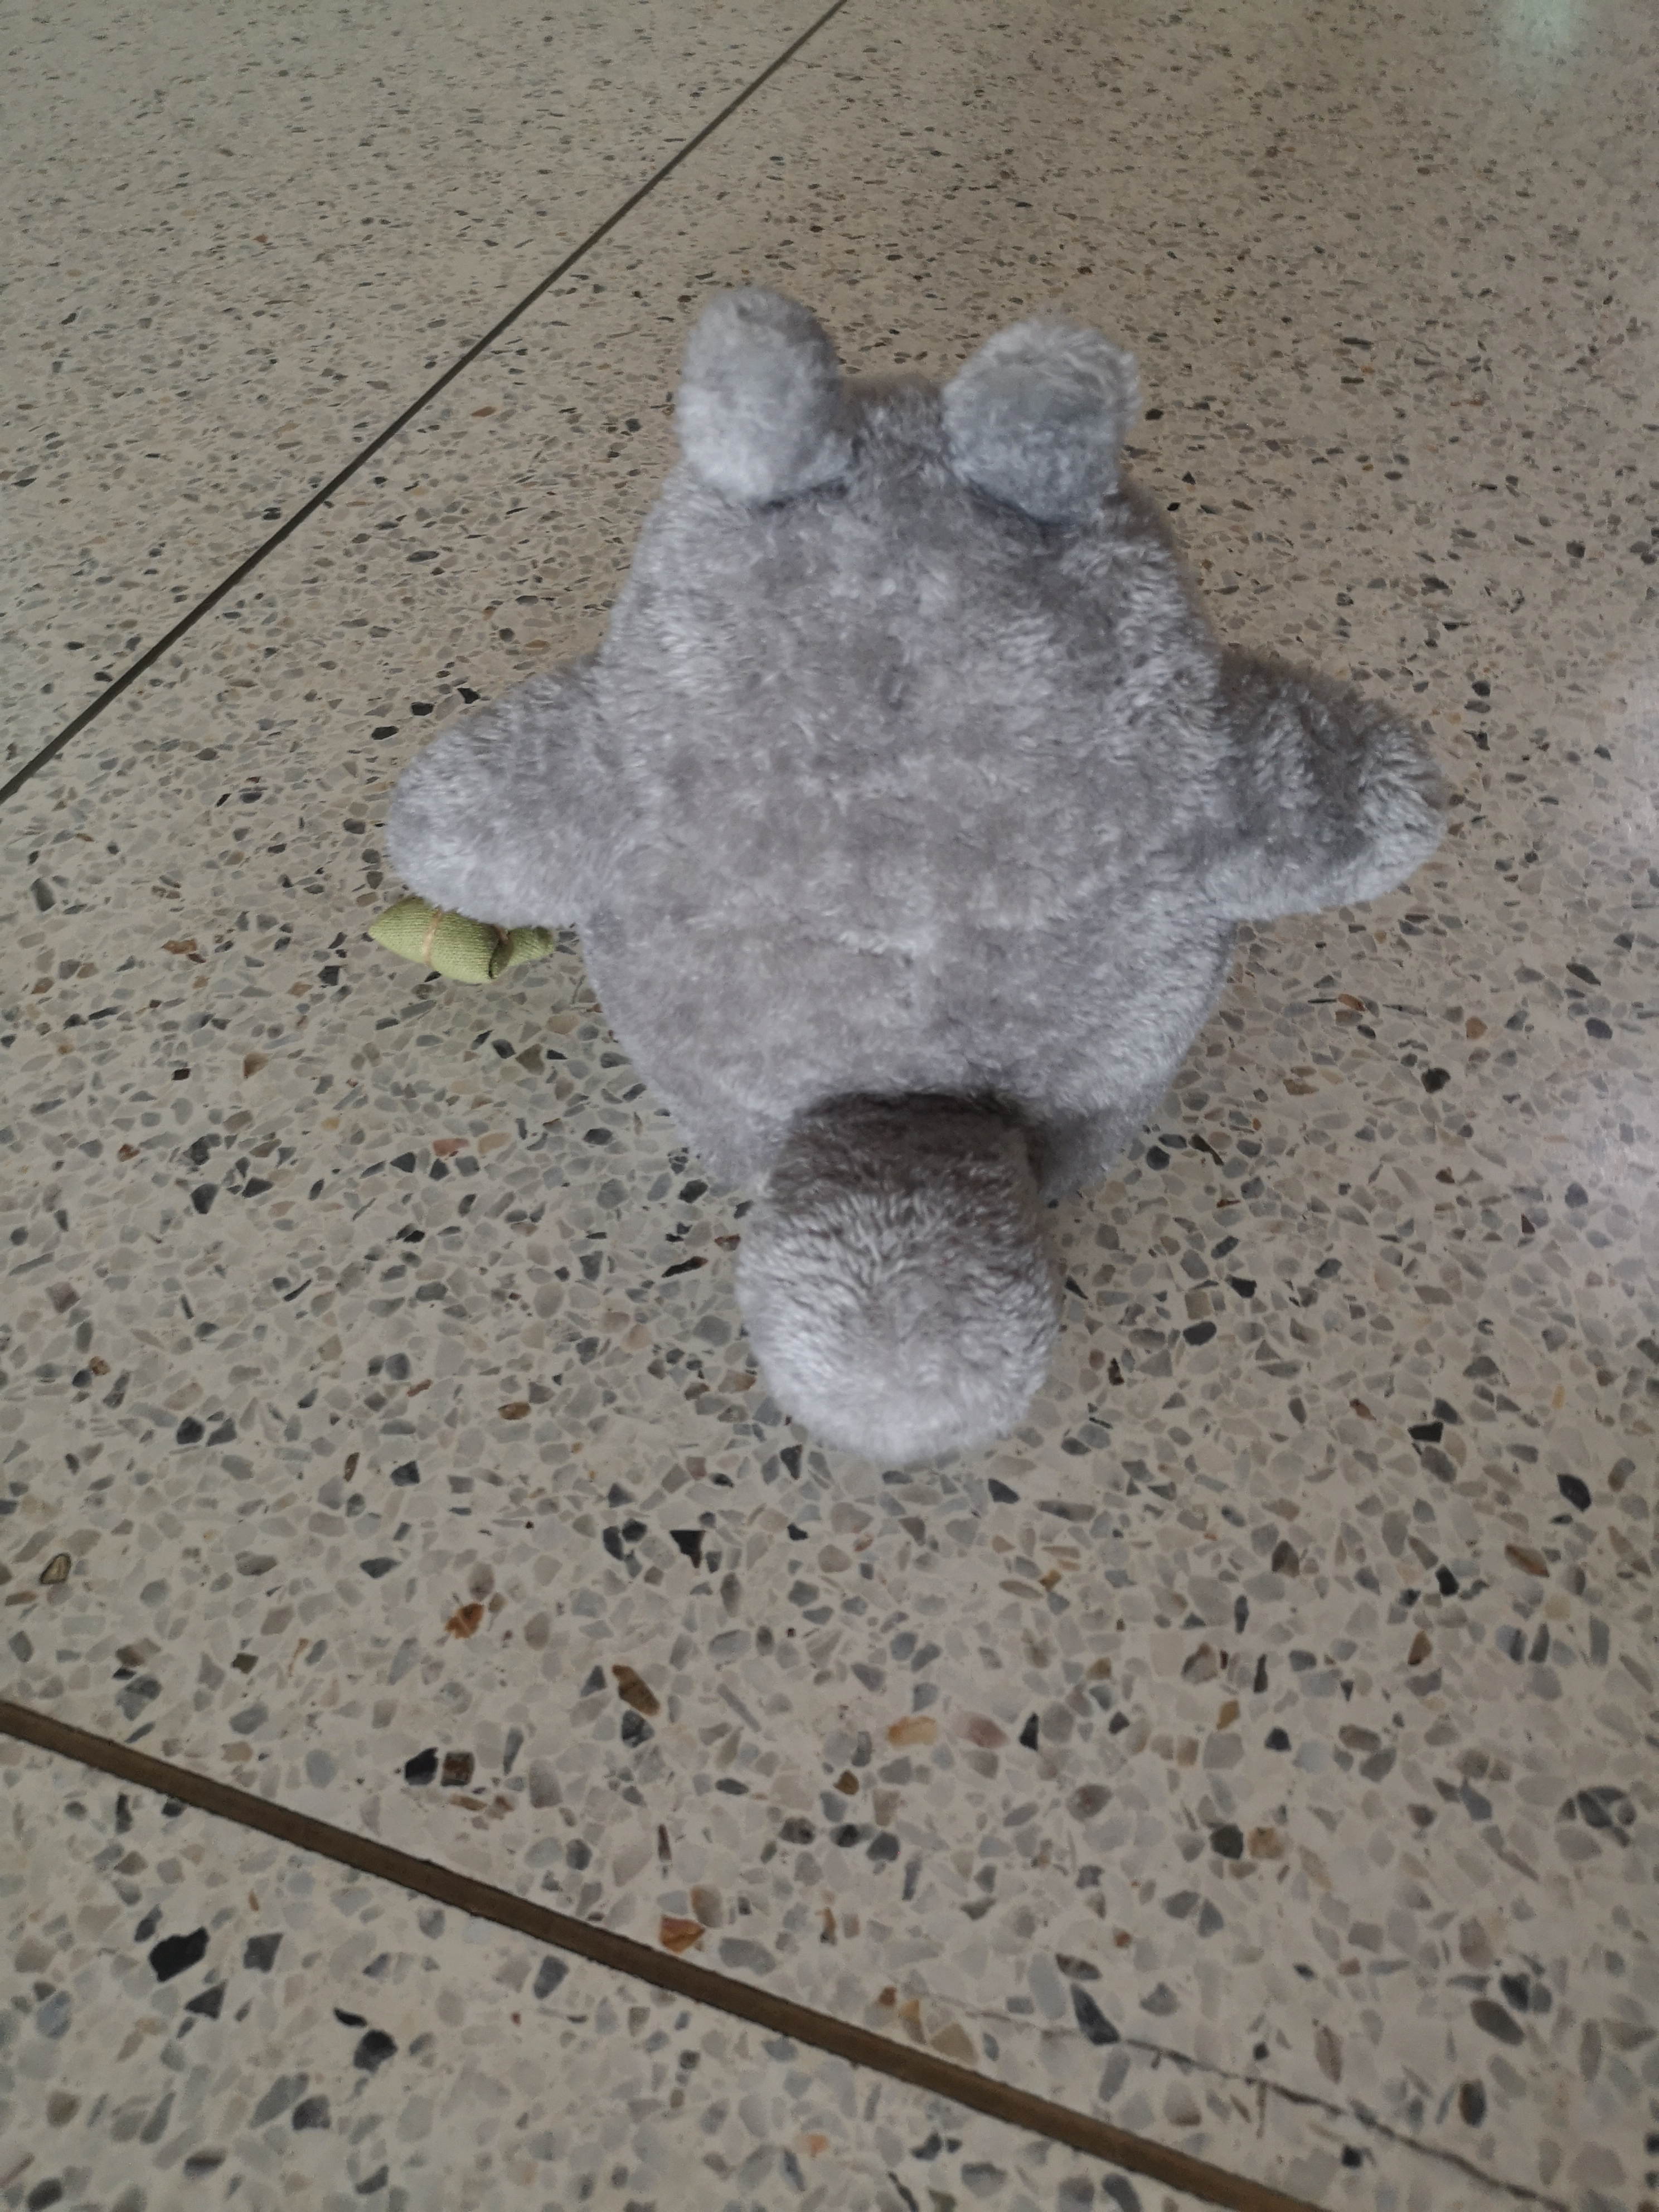totoro: (357, 286, 1450, 1454)
